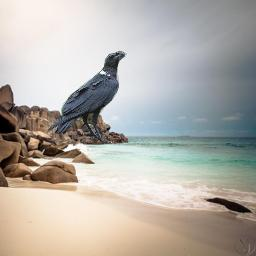Crow: (46, 50, 127, 144)
